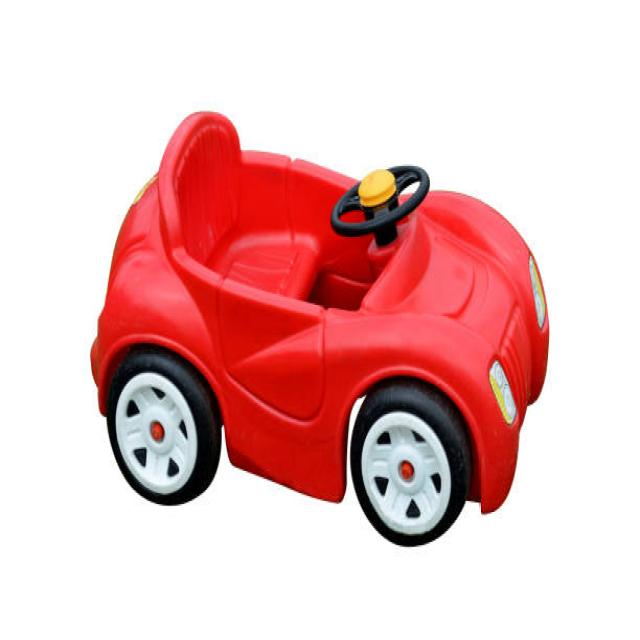Car: (89, 107, 549, 547)
